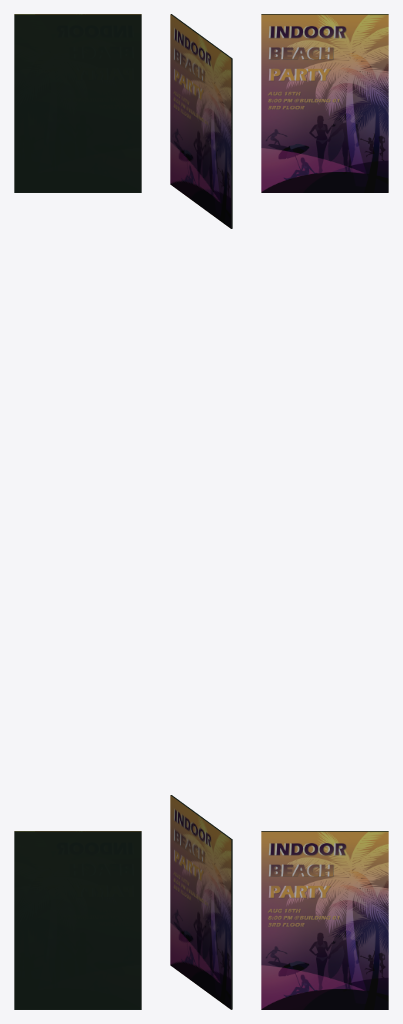
Rendered from 20251203_BUILDIUNG 2_posters.fbx.
3 renders of one model, left to right at view 1: azimuth 90°, elevation 25°; view 2: azimuth 210°, elevation 25°; view 3: azimuth 270°, elevation 25°, orthographic. The views are drawn at different scales.
Visible parts, largest first — view 1: DOOR; view 2: POSTER 01.jpg, POSTER 01.jpg_2, DOOR; view 3: POSTER 01.jpg, POSTER 01.jpg_2.
Boxes of the visible parts, left/top/right/bottom form: DOOR: left=14, top=14, right=141, bottom=1009; POSTER 01.jpg: left=170, top=14, right=231, bottom=228; POSTER 01.jpg_2: left=170, top=795, right=231, bottom=1009; DOOR: left=170, top=14, right=232, bottom=1009; POSTER 01.jpg: left=261, top=14, right=388, bottom=192; POSTER 01.jpg_2: left=261, top=831, right=388, bottom=1009.
Size of the model in its own units: 0.3499 by 241 by 27.94.
Materials: 2 (1 with a texture image).
